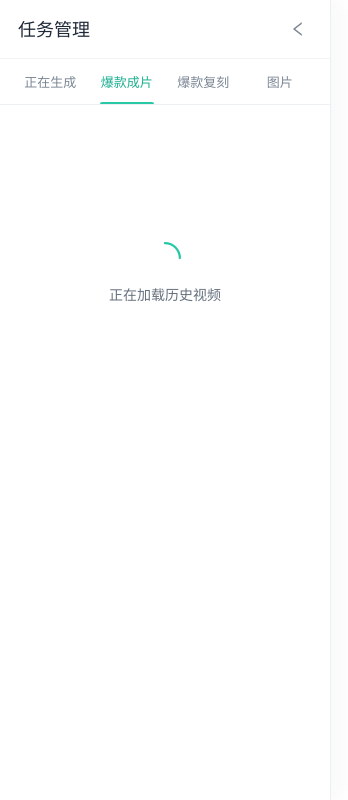
Scenario: TaskCenterDrawer isolation and reconciliation › fails closed until project permissions load, then reveals only accessible live tasks
Click the tab "正在生成".
click(50, 82)  # box left=12, top=59, right=88, bottom=104
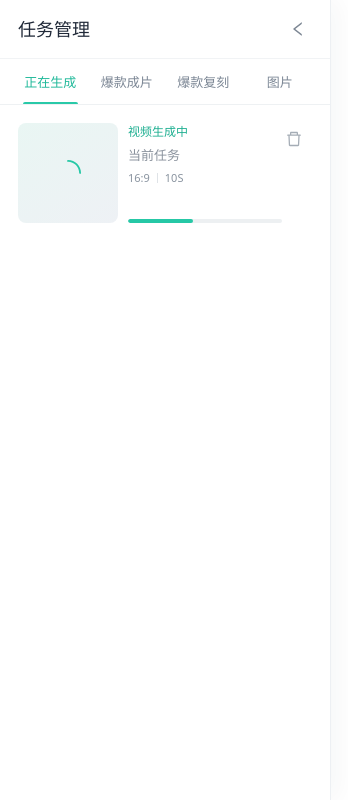
Expected: the button "视频生成中 当前任务 16:9 10S" is shown, left=18, top=119, right=312, bottom=227
